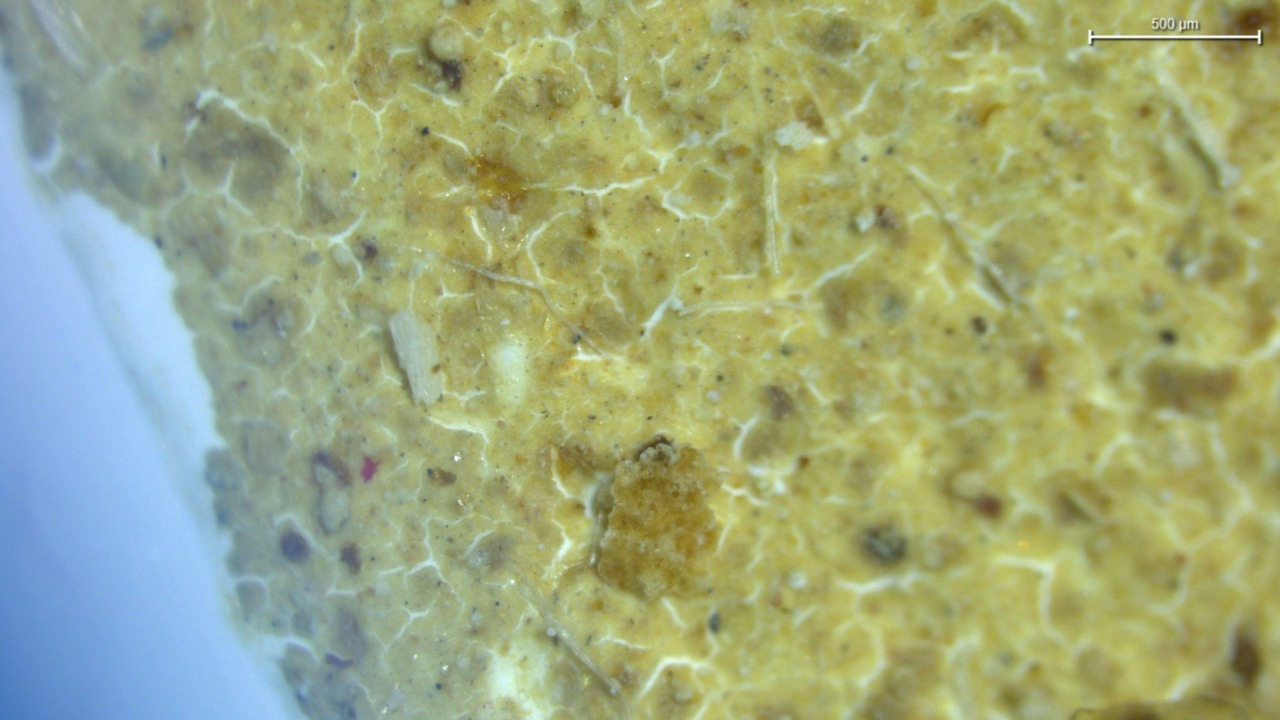microplastic_fragment: (597, 437, 716, 597), (389, 312, 444, 404)
